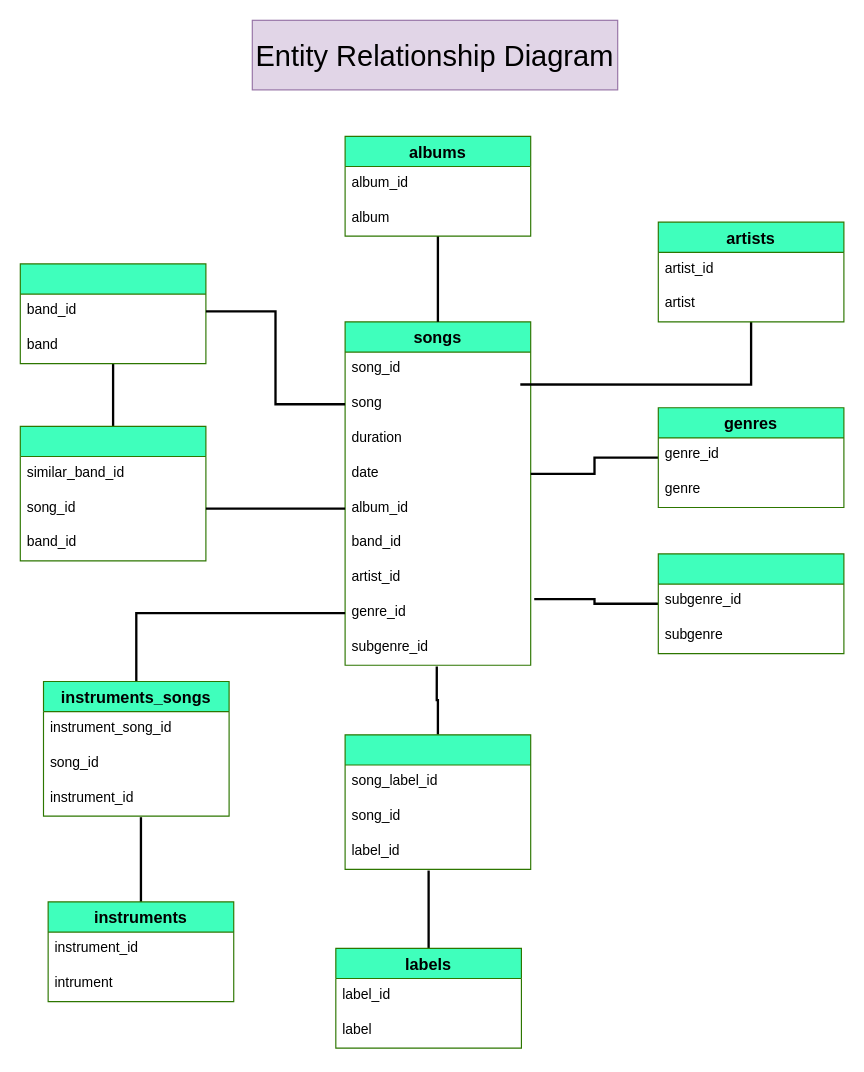
This 864x1072 diagram has some shape labels left out. Each missing label, with the box of its shape:
bands: (19, 263, 206, 364)
similar_bands: (19, 425, 206, 561)
songs_labels: (344, 734, 531, 869)
subgenres: (657, 553, 844, 654)
